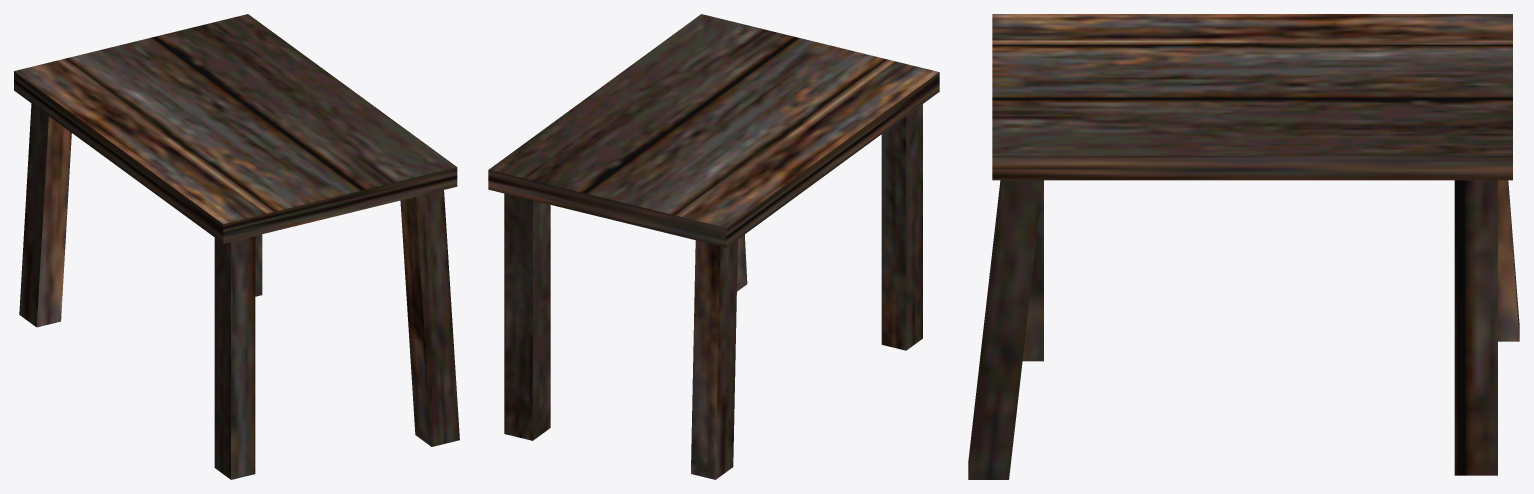
Rendered from table.fbx.
3 views of the same model, side by side, from view 1: azimuth 30°, elevation 25°; view 2: azimuth 150°, elevation 25°; view 3: azimuth 270°, elevation 25° (orthographic). The views are drawn at different scales.
Parts seen in each view (by area): view 1: Cube; view 2: Cube; view 3: Cube.
Part boxes in pixels (<box>): Cube: <box>14,14,459,479</box>; Cube: <box>488,14,939,479</box>; Cube: <box>968,14,1519,479</box>.
Size of the model in its own units: 451 by 486 by 740.
1 material, 1 textured.
